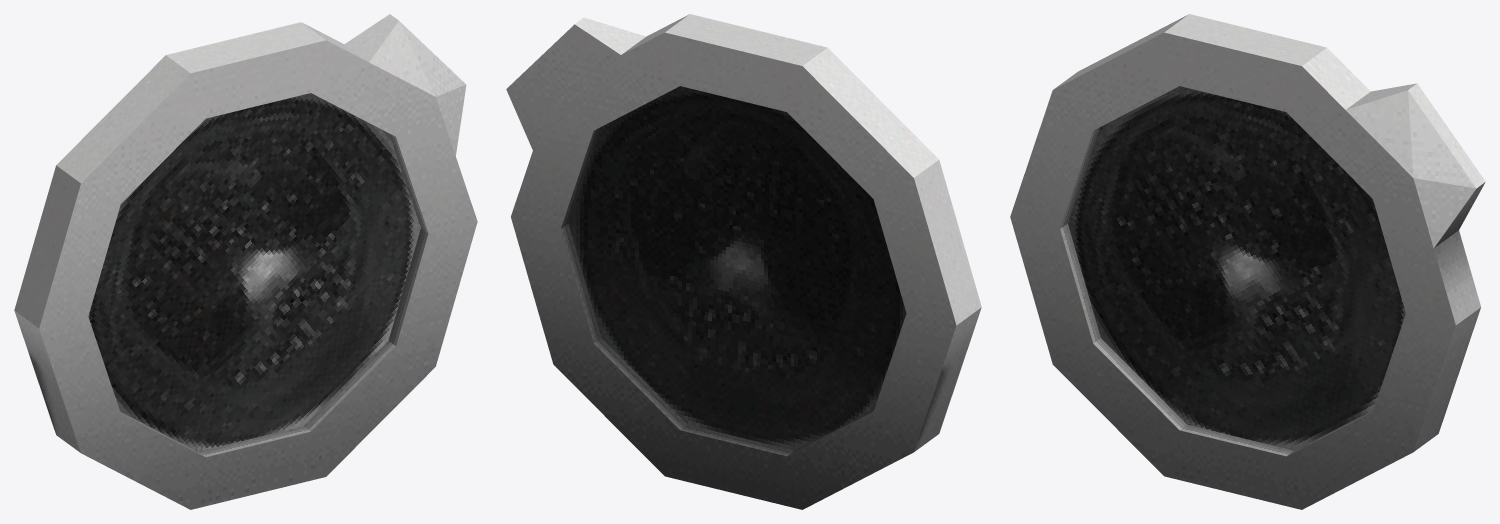
The model's file is washing-machine-door_clean.glb.
3 views of the same model, side by side, from view 1: azimuth 30°, elevation 25°; view 2: azimuth 150°, elevation 25°; view 3: azimuth 330°, elevation 25° (orthographic).
Parts seen in each view (by area): view 1: washing-machine-door_clean-col; view 2: washing-machine-door_clean-col; view 3: washing-machine-door_clean-col.
Part boxes in pixels (<box>): washing-machine-door_clean-col: <box>14,14,477,509</box>; washing-machine-door_clean-col: <box>506,14,981,509</box>; washing-machine-door_clean-col: <box>1010,14,1485,509</box>.
Size of the model in its own units: 0.5718 by 0.5385 by 0.0556.
1 material, 1 textured.
